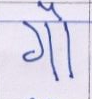ai_matra: (38, 3, 65, 20)
